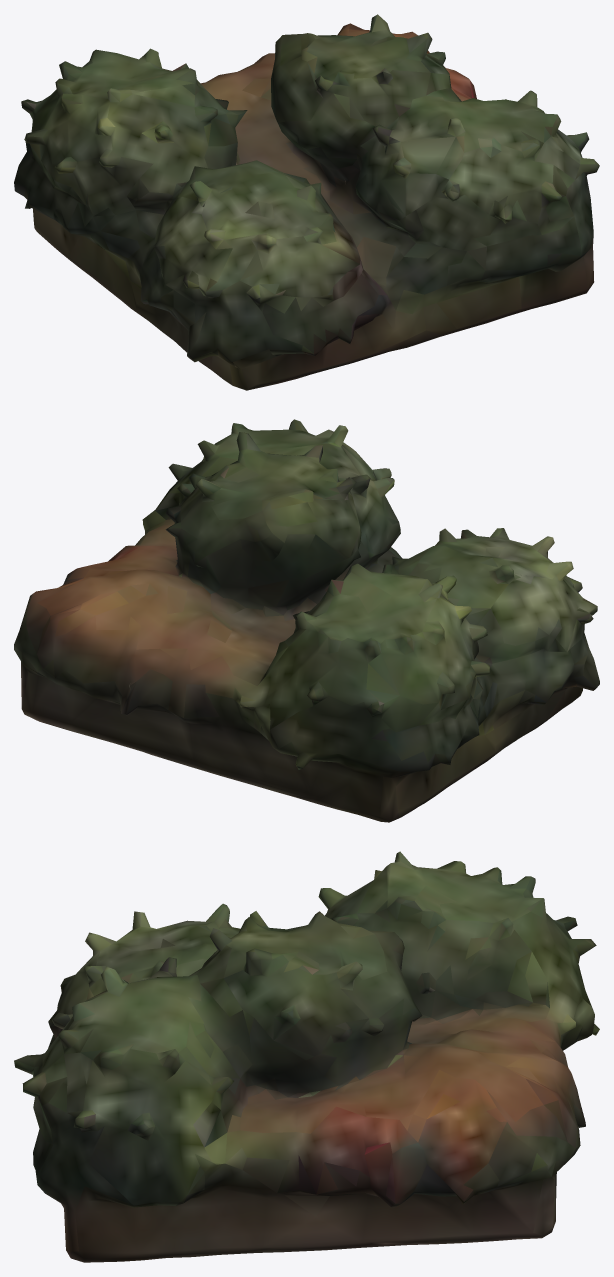
File: m26_arbustos_ouricos.glb
3 views of the same model, one above another, from view 1: azimuth 30°, elevation 25°; view 2: azimuth 150°, elevation 25°; view 3: azimuth 270°, elevation 25° (orthographic). The views are drawn at different scales.
Visible parts, largest first — view 1: m26_arbustos_ouricos; view 2: m26_arbustos_ouricos; view 3: m26_arbustos_ouricos.
Part boxes in pixels (<box>): m26_arbustos_ouricos: <box>14,14,599,390</box>; m26_arbustos_ouricos: <box>14,419,599,822</box>; m26_arbustos_ouricos: <box>14,851,599,1262</box>.
Bounding box in the file's own units: 1.09 × 0.6001 × 1.11.
Materials: 1 (1 with a texture image).
